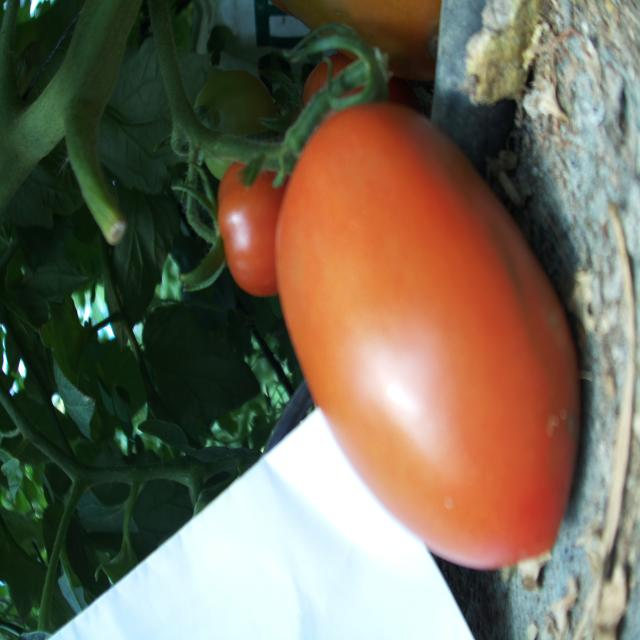kirmizi: (244, 55, 592, 541)
